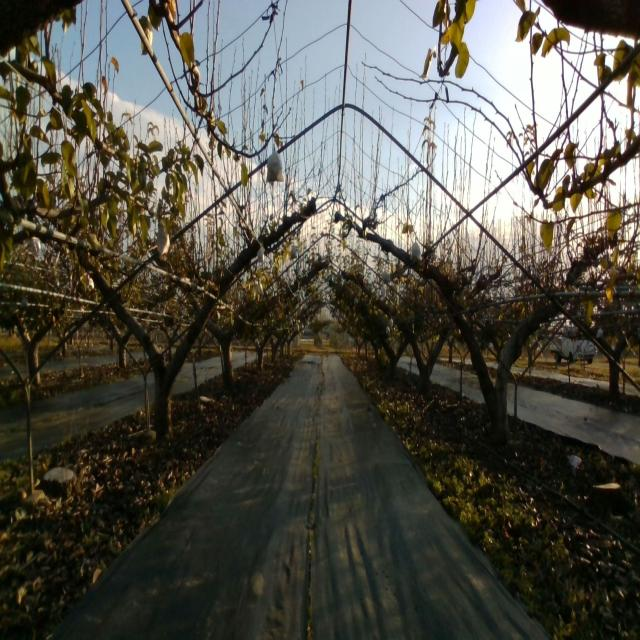pearbags: (264, 145, 284, 183), (156, 232, 171, 257), (410, 237, 422, 261)
